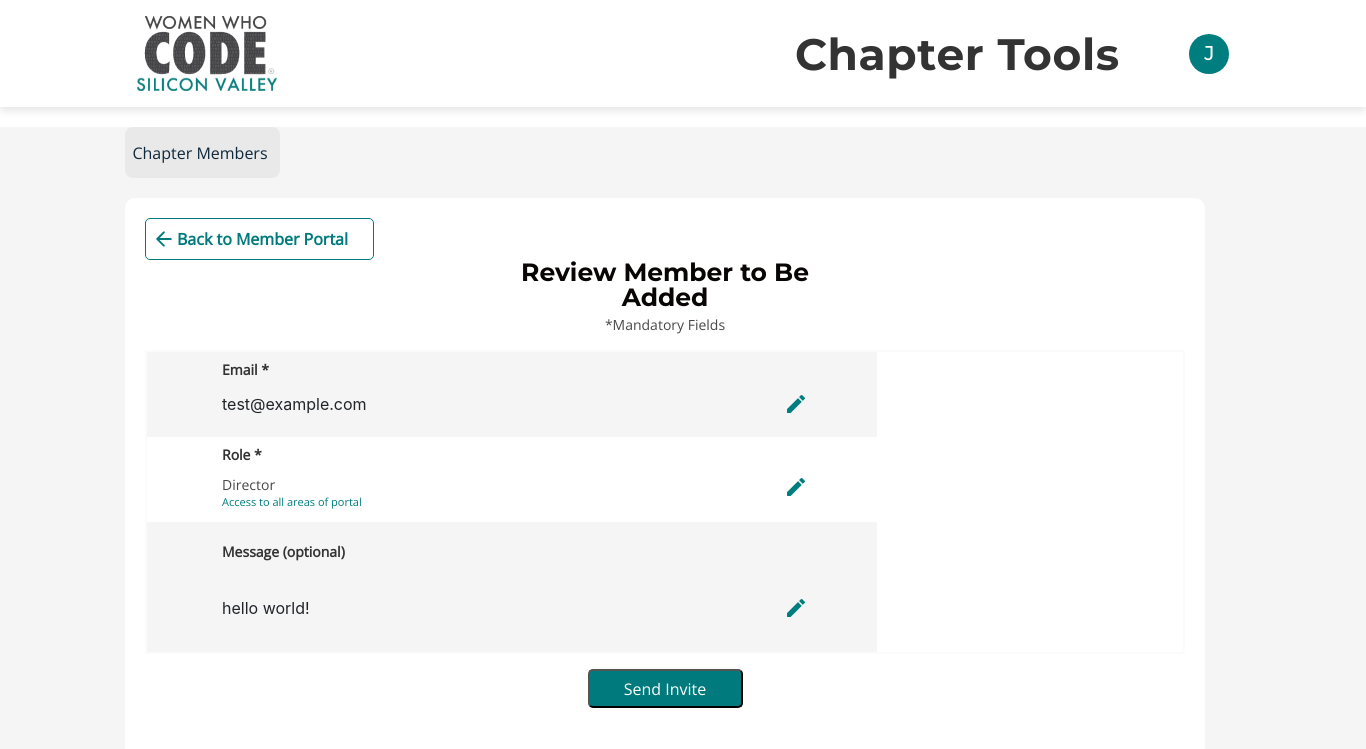
Test case: ReviewMember › it shows error
Click the button with class "sendinvite-btn" at (665, 688), box [588,669,742,708]
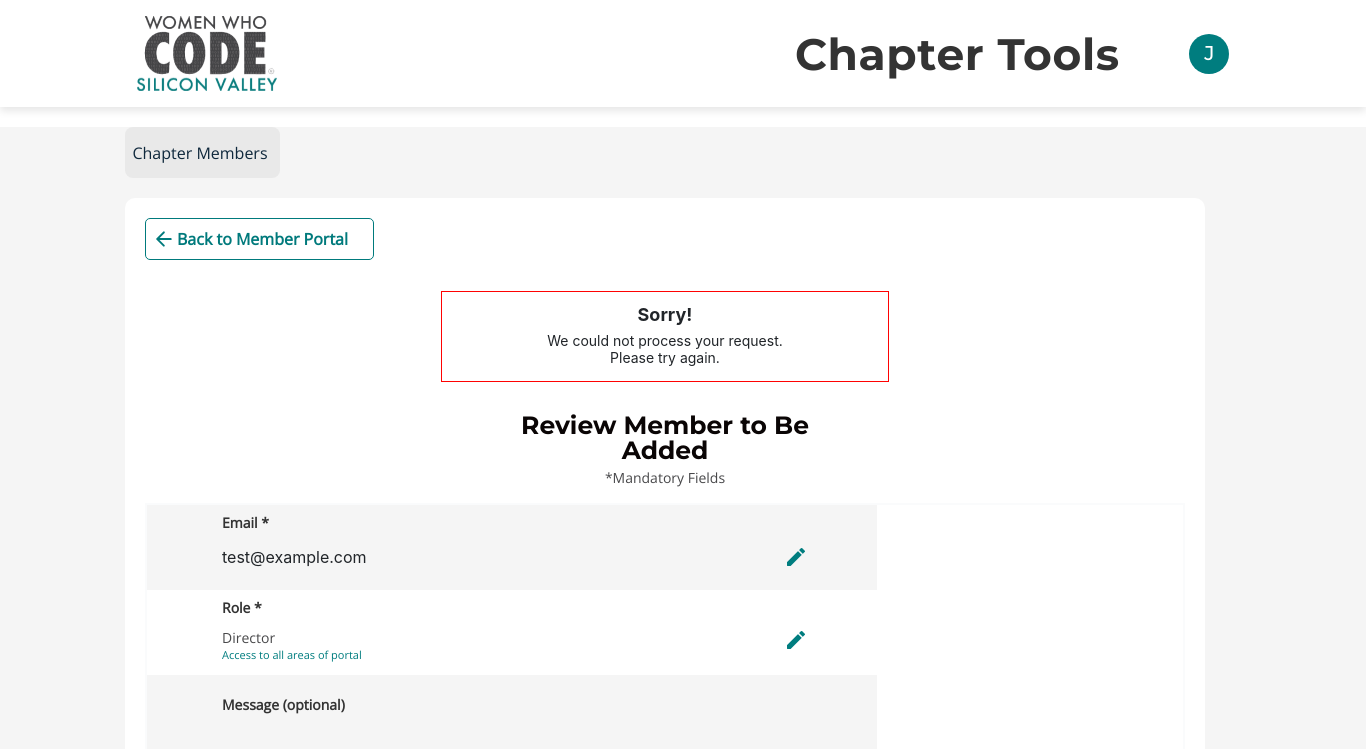
Expected: the element with test id "message-box" is shown, [441,291,889,382]
